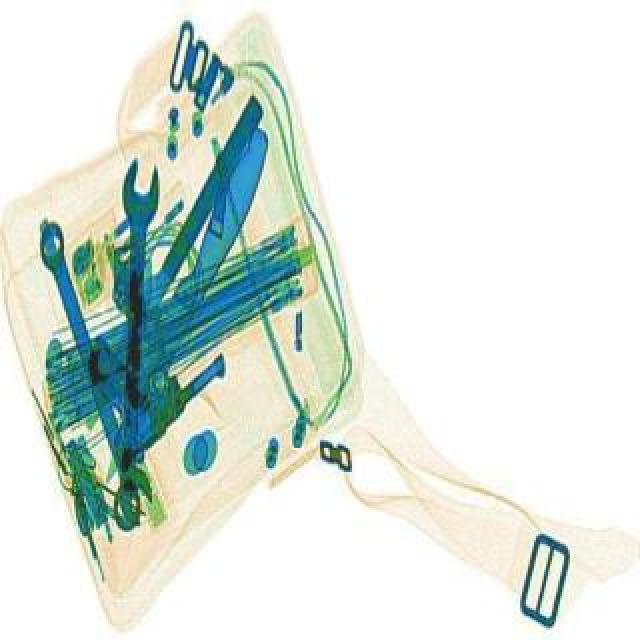gun: (34, 284, 236, 470)
knife: (88, 120, 280, 486), (80, 94, 268, 416)
scissors: (26, 216, 162, 528), (106, 154, 162, 530)
